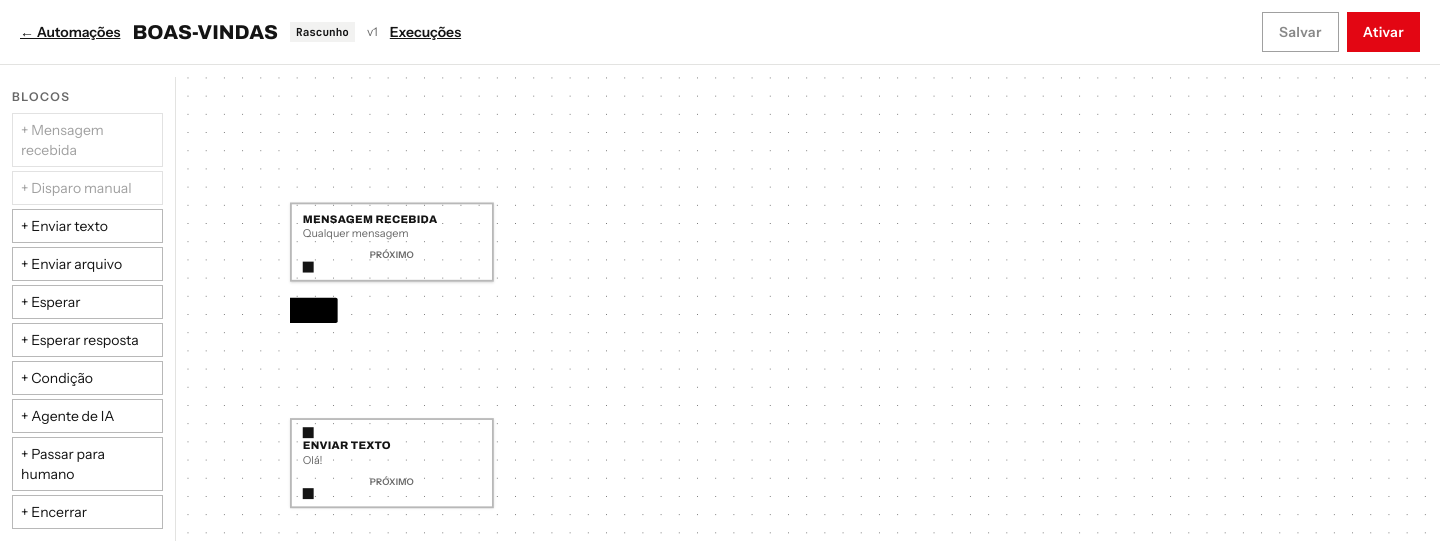
Scenario: FlowEditor › saves pending changes before activating and shows the flow as active
This screenshot has width=1452, height=558.
Click the button with aria-label "Adicionar Encerrar". click: (88, 512)
box: [12,495,163,529]
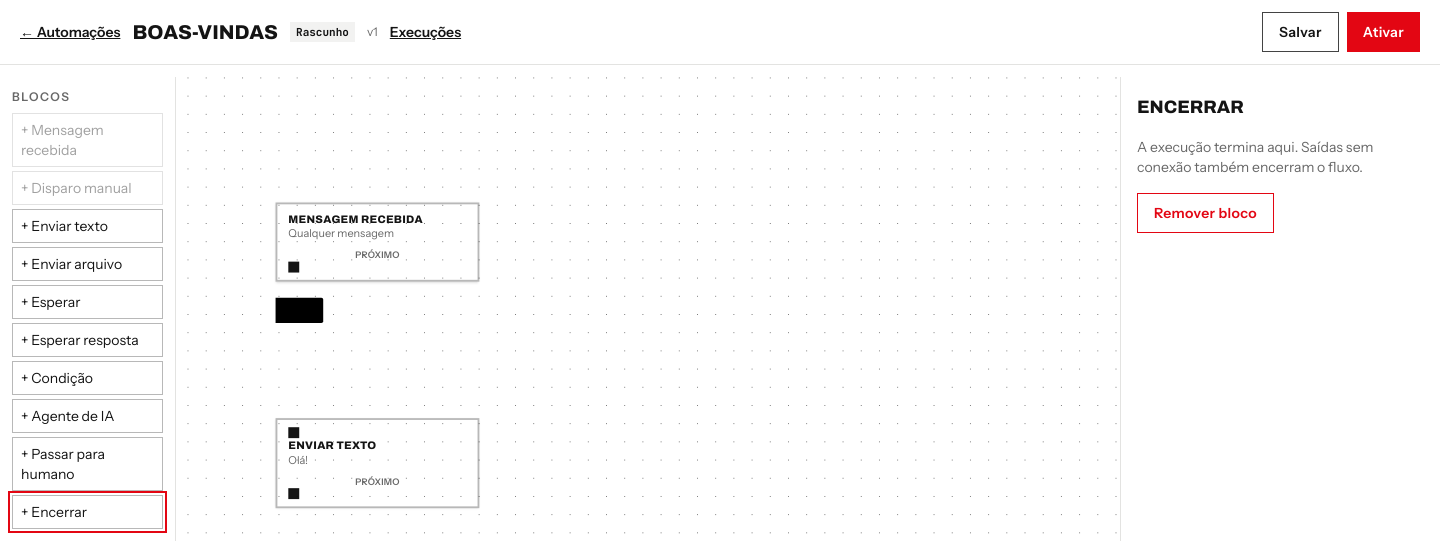
Click the button "Ativar". click: (1383, 32)
box: [1347,12,1420,52]
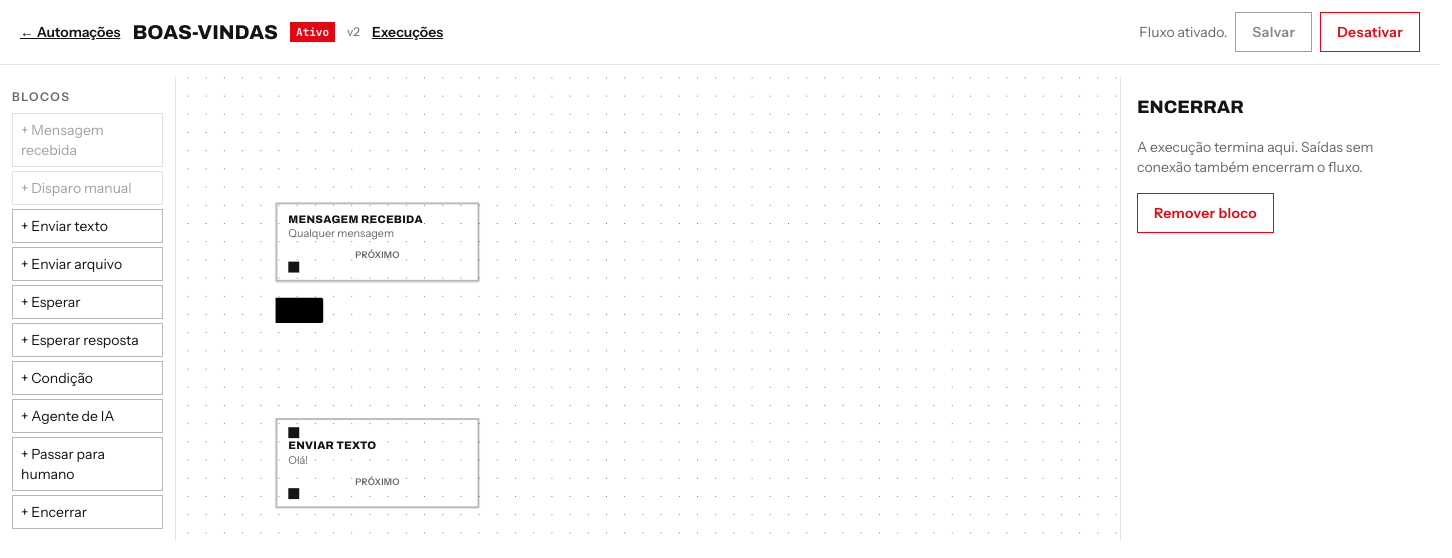
Check: the text "Ativo" is shown, box [290,22,335,42]
Check: the button "Desativar" is shown, box [1320,12,1420,52]
